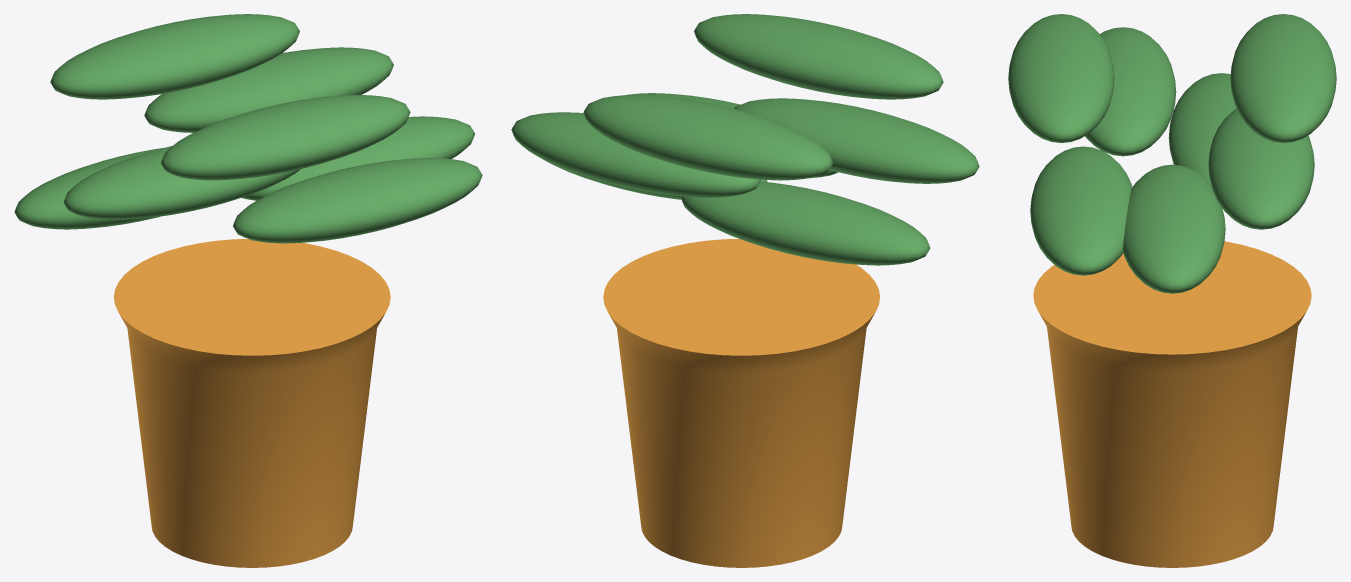
Rendered from plant.glb.
The picture shows the model from 3 angles, left to right: view 1: azimuth 30°, elevation 25°; view 2: azimuth 150°, elevation 25°; view 3: azimuth 270°, elevation 25°; orthographic projection.
Parts seen in each view (by area): view 1: pot, leaf2, leaf6, leaf5, leaf1, leaf4, leaf0, leaf3; view 2: pot, leaf5, leaf2, leaf3, leaf4, leaf1; view 3: pot, leaf2, leaf5, leaf0, leaf6, leaf1, leaf4, leaf3.
Part boxes in pixels (box(x1,y1,x2,y2)): pot: box(113, 239, 390, 567); leaf2: box(50, 14, 299, 99); leaf6: box(233, 158, 482, 243); leaf5: box(161, 95, 410, 180); leaf1: box(144, 47, 393, 132); leaf4: box(63, 146, 300, 219); leaf0: box(242, 116, 474, 200); leaf3: box(14, 148, 162, 229); pot: box(603, 239, 880, 567); leaf5: box(694, 14, 943, 99); leaf2: box(583, 95, 832, 180); leaf3: box(680, 181, 930, 265); leaf4: box(734, 98, 979, 183); leaf1: box(511, 112, 760, 197); pot: box(1033, 241, 1311, 567); leaf2: box(1230, 14, 1336, 142); leaf5: box(1008, 14, 1114, 142); leaf0: box(1123, 164, 1225, 293); leaf6: box(1030, 146, 1132, 275); leaf1: box(1208, 108, 1314, 229); leaf4: box(1085, 27, 1176, 156); leaf3: box(1168, 73, 1236, 185).
Bounding box in the file's own units: 0.3951 × 0.401 × 0.2595.
